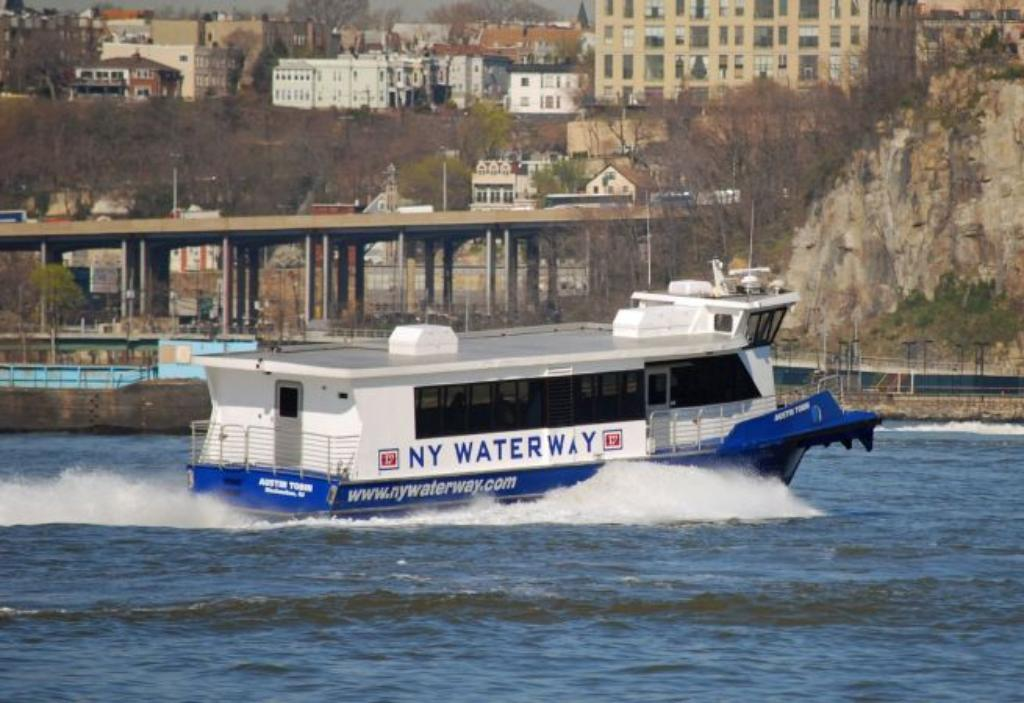PassengerShip: (170, 238, 896, 556)
